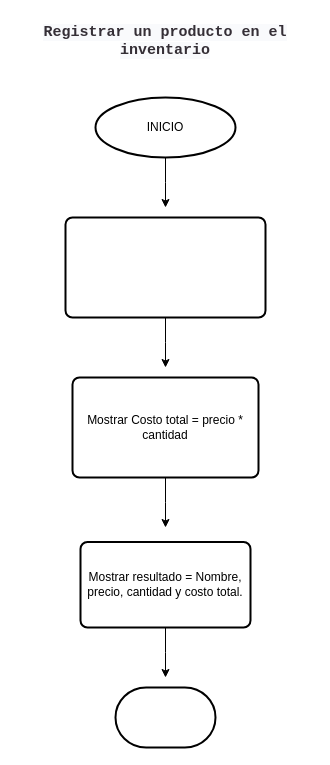
Some shapes in this 330 by 765 pixel diagram are drawn without their labels. Each missing label, with the centre of its shape:
"FIN" belongs at (165,717).
"Leer nombre, precio y cantidad del producto." belongs at (165,267).
